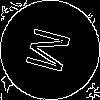M: (25, 25, 80, 78)
